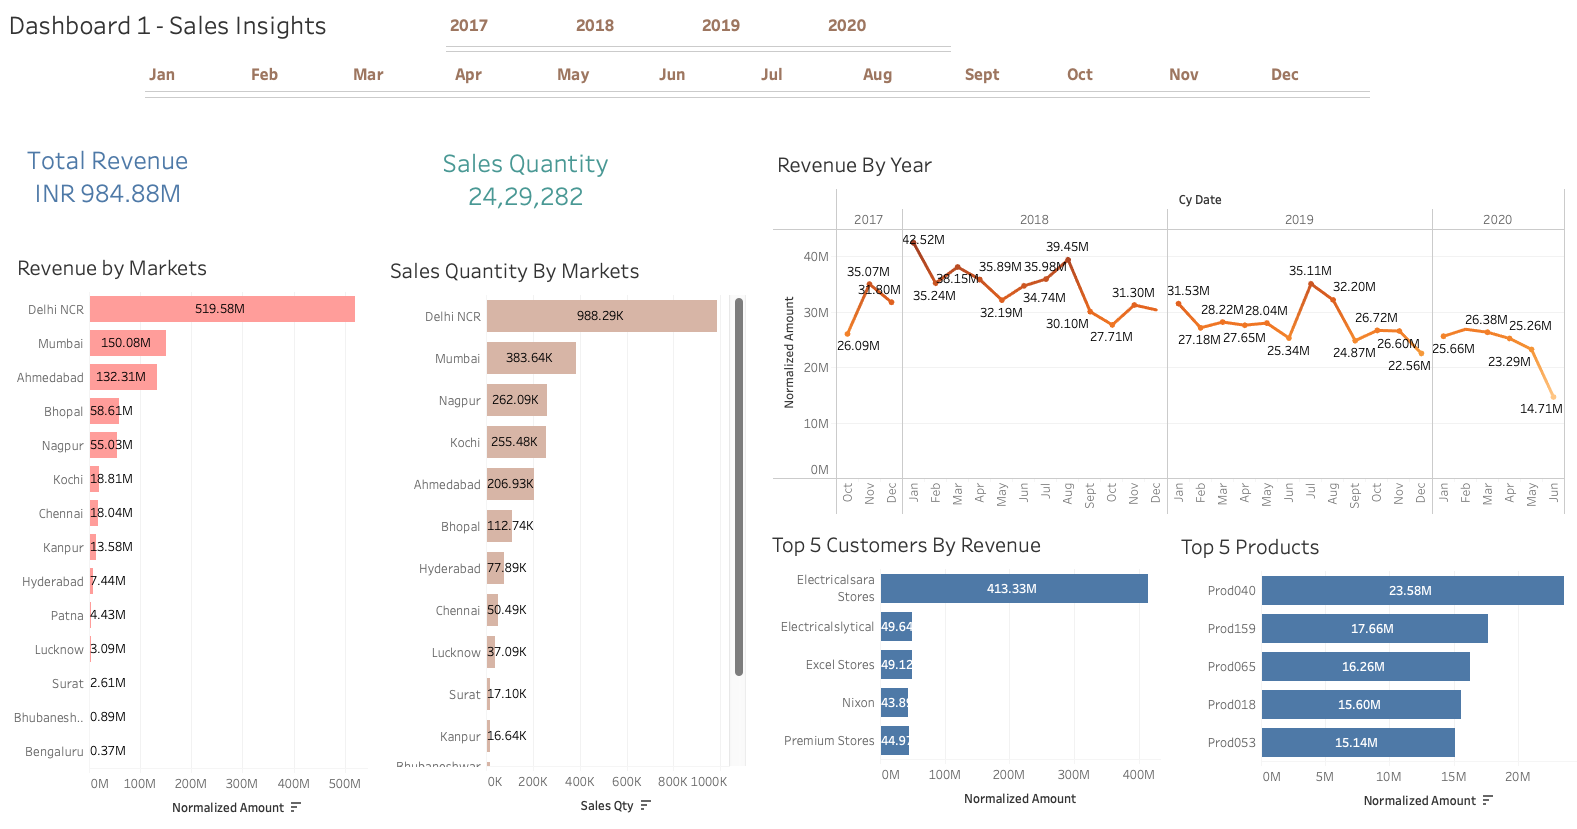

This screenshot's page, from the dashboard's own definition file:
{"tool":"tableau","page":{"name":"Dashboard 1 - Sales Insights","canvas":[1600,900],"ordinal":0},"visuals":[{"type":"title","box":[8,8,1584,42]},{"type":"worksheet","title":"Year","mark":"Automatic","cols":["cy_date"],"box":[452,8,530,53]},{"type":"worksheet","title":"Month","mark":"Automatic","cols":["cy_date"],"box":[151,61,1266,43]},{"type":"worksheet","title":"Revenue","mark":"Automatic","box":[24,147,275,91]},{"type":"worksheet","title":"Quantity","mark":"Automatic","box":[442,150,260,79]},{"type":"worksheet","title":"Revenue By Year","mark":"Automatic","rows":["Calculation_0072405700927488"],"cols":["cy_date","cy_date"],"box":[779,150,792,369]},{"type":"worksheet","title":"Revenue by Markets","mark":"Automatic","rows":["markets_name"],"cols":["Calculation_0072405700927488"],"box":[19,253,355,574]},{"type":"worksheet","title":"Sales Quantity By Markets","mark":"Automatic","rows":["markets_name"],"cols":["sales_qty"],"box":[392,256,360,569]},{"type":"worksheet","title":"Top 5 Customers By Revenue","mark":"Automatic","rows":["custmer_name"],"cols":["Calculation_0072405700927488"],"box":[774,530,393,308]},{"type":"worksheet","title":"Top 5 Products","mark":"Automatic","rows":["product_code (products)"],"cols":["Calculation_0072405700927488"],"box":[1183,532,402,304]}]}

Visuals, with their boxes on the page's 1600x900 design canvas (x1, y1, x2, y2). These are canvas units, not pixel positions in the 1577x829 screenshot, which may show the page scaled, cropped or inside an application window:
title: 8 8 1592 50
"Year" worksheet: 452 8 982 61
"Month" worksheet: 151 61 1417 104
"Revenue" worksheet: 24 147 299 238
"Quantity" worksheet: 442 150 702 229
"Revenue By Year" worksheet: 779 150 1571 519
"Revenue by Markets" worksheet: 19 253 374 827
"Sales Quantity By Markets" worksheet: 392 256 752 825
"Top 5 Customers By Revenue" worksheet: 774 530 1167 838
"Top 5 Products" worksheet: 1183 532 1585 836
